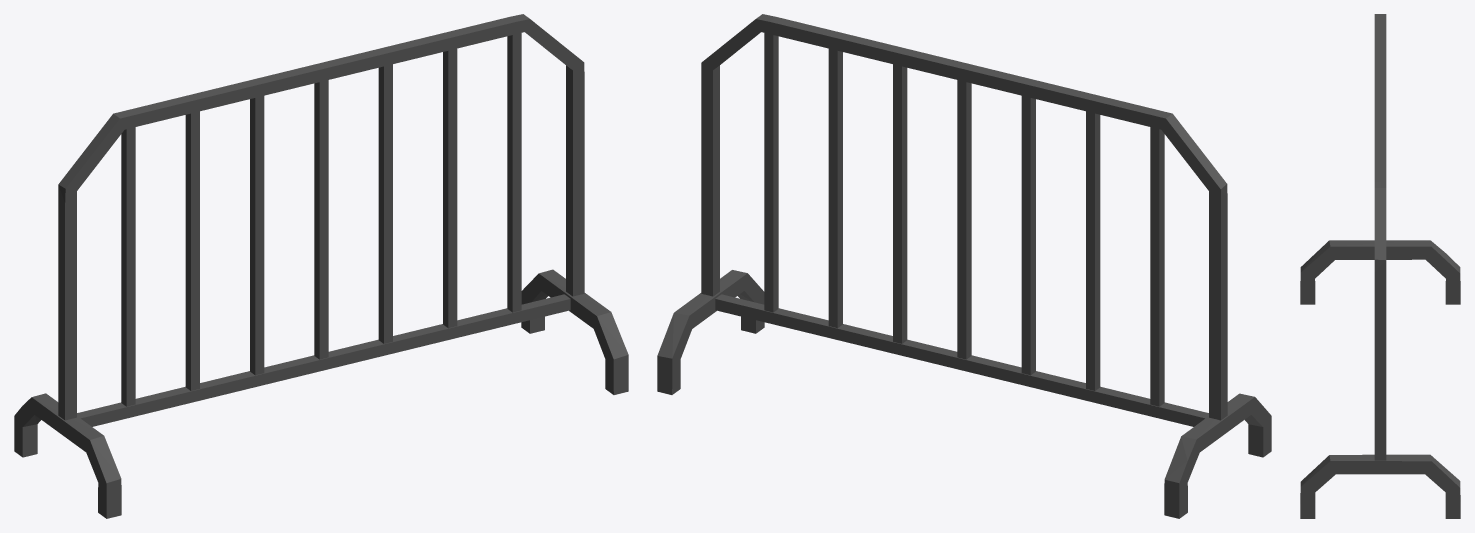
The model's file is SM_Barrier_01.glb.
3 renders of one model, left to right at view 1: azimuth 30°, elevation 25°; view 2: azimuth 150°, elevation 25°; view 3: azimuth 270°, elevation 25°, orthographic. The views are drawn at different scales.
Parts seen in each view (by area): view 1: SM_Barrier_01; view 2: SM_Barrier_01; view 3: SM_Barrier_01.
Part boxes in pixels (left/top/right/bottom): SM_Barrier_01: left=14, top=14, right=628, bottom=518; SM_Barrier_01: left=657, top=14, right=1271, bottom=518; SM_Barrier_01: left=1300, top=14, right=1460, bottom=518.
Bounding box in the file's own units: 1.69 × 1.1 × 0.5171.
Materials: 1 (1 with a texture image).
